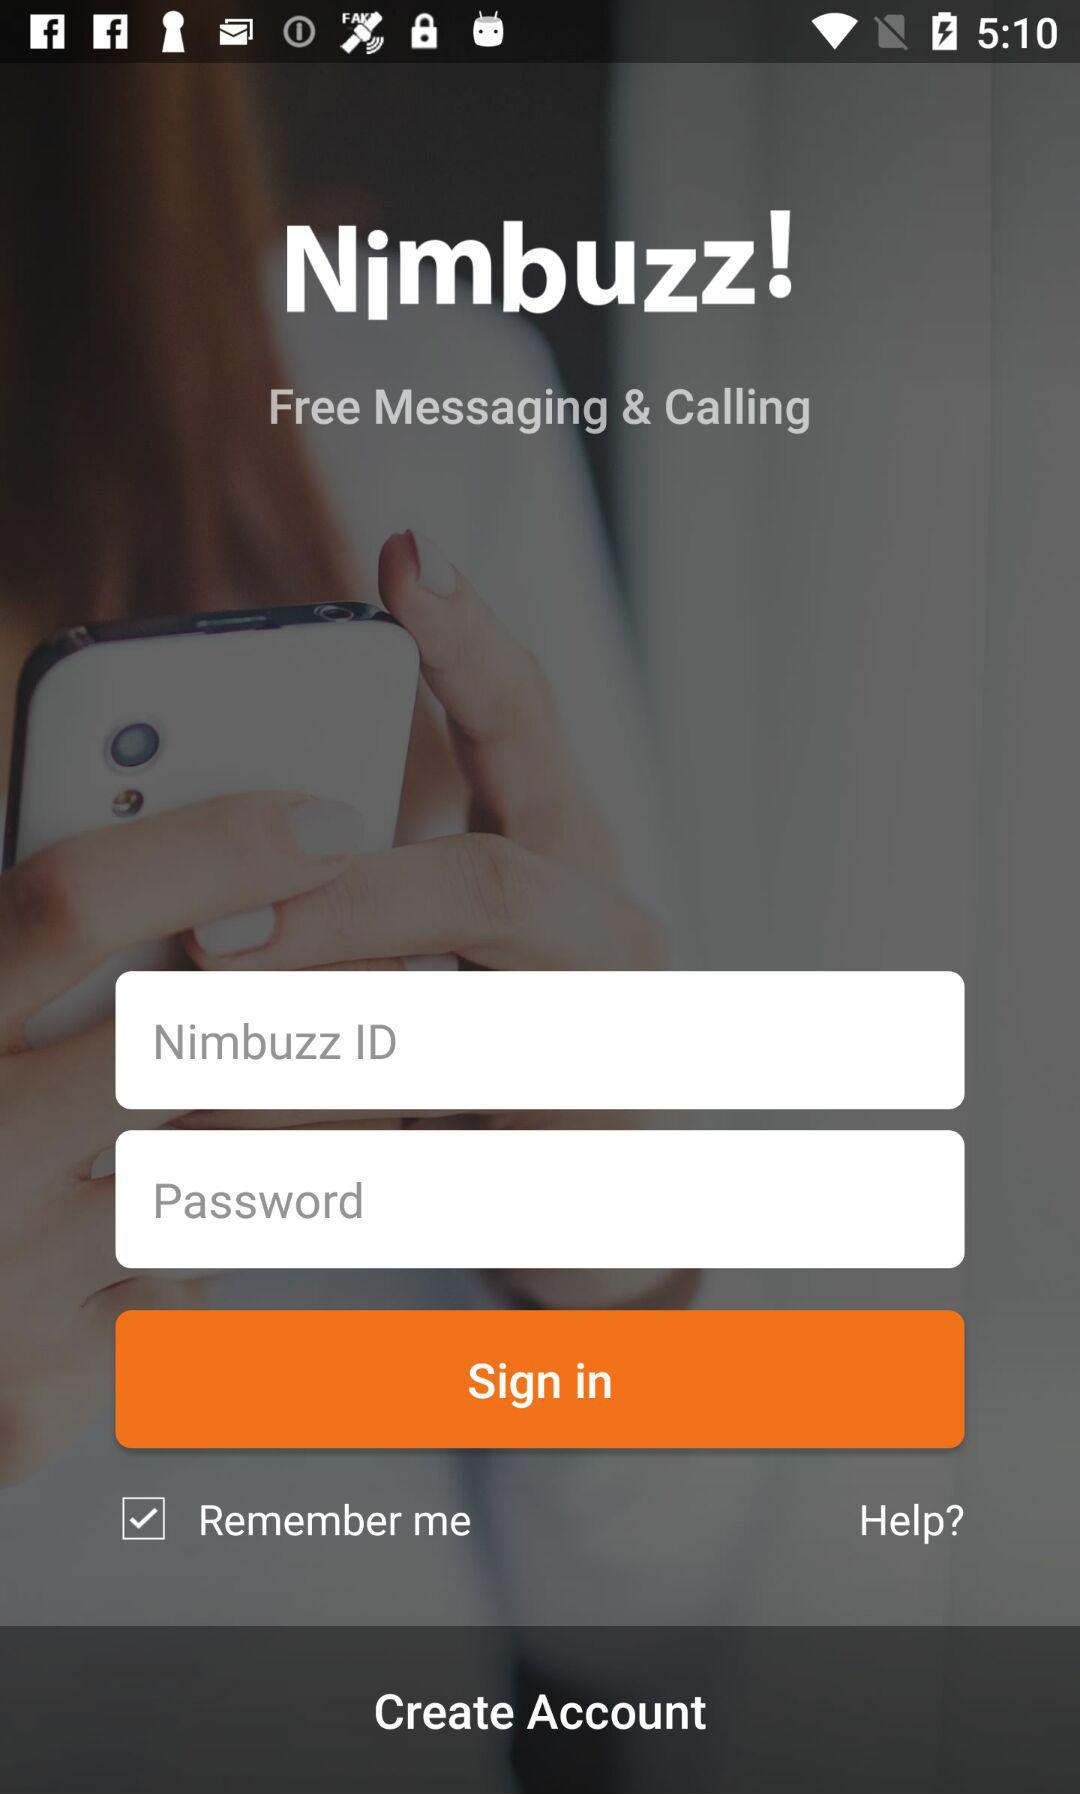BackgroundImage: (1, 64, 1080, 1626)
CheckedTextView: (122, 1495, 471, 1542)
EditText: (115, 971, 966, 1111), (115, 1130, 966, 1269)
Image: (286, 209, 793, 322)
Text: (270, 387, 811, 437), (200, 1502, 471, 1536), (156, 1023, 397, 1061), (156, 1181, 363, 1220), (861, 1502, 963, 1545)
TextButton: (1, 1626, 1080, 1794), (117, 1310, 965, 1449)
UpperTaskBar: (1, 1, 1080, 64)
